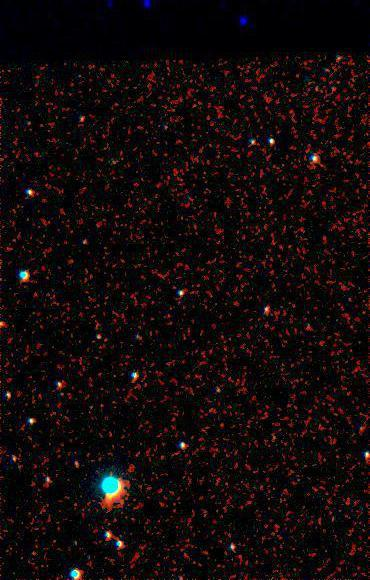star: (93, 486, 123, 516)
